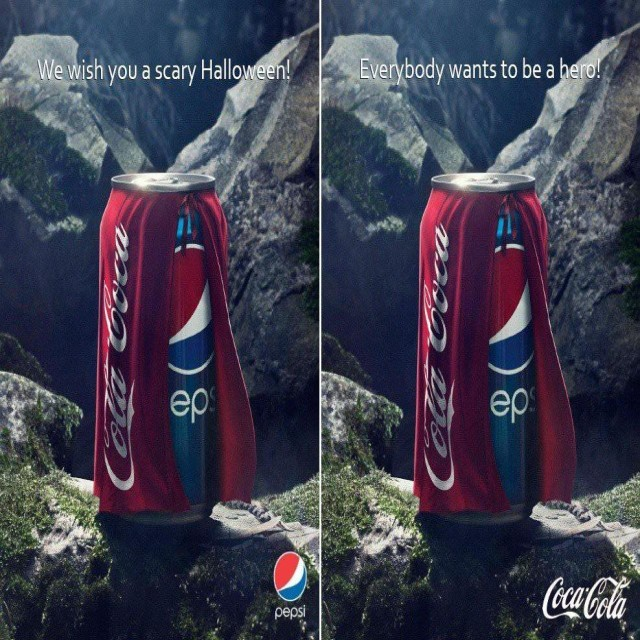pepsi: (163, 234, 219, 380), (485, 237, 539, 382), (274, 548, 309, 606)
